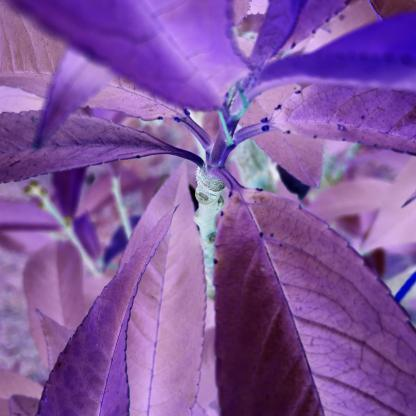Peach leaf: (212, 171, 416, 412), (30, 208, 182, 416), (110, 155, 208, 416), (0, 108, 193, 186)
